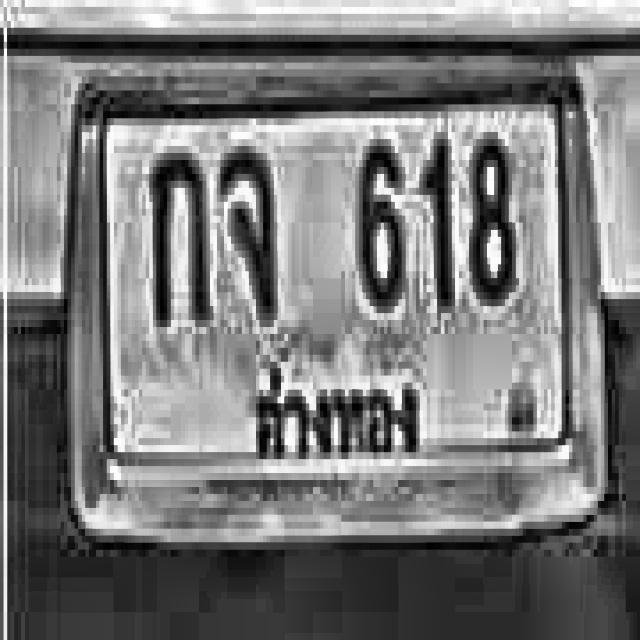license-plate: (67, 54, 608, 538)
